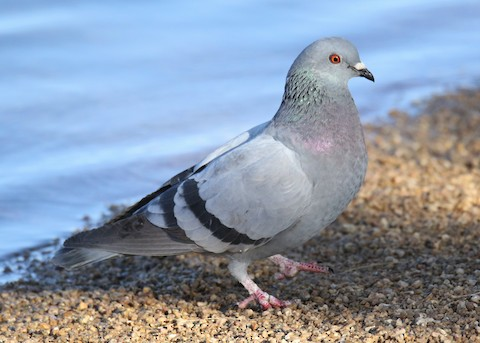pigeon: (45, 28, 384, 310)
